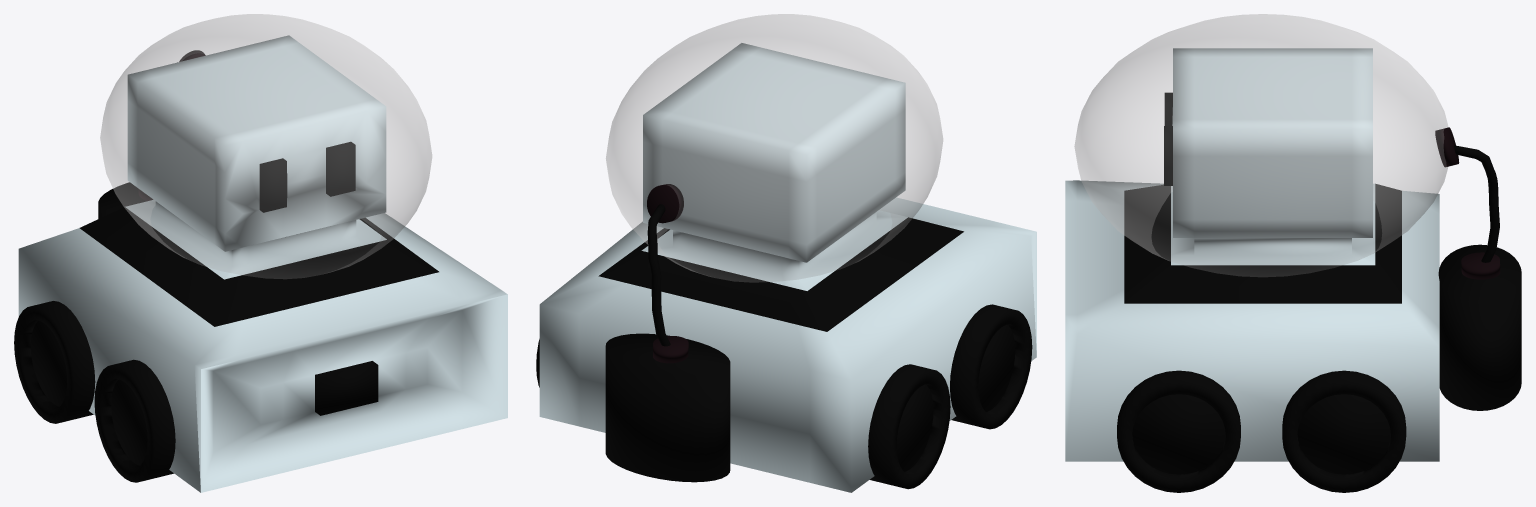
Rendered from robot-svemir.glb.
3 views of the same model, side by side, from view 1: azimuth 30°, elevation 25°; view 2: azimuth 150°, elevation 25°; view 3: azimuth 270°, elevation 25° (orthographic). The views are drawn at different scales.
Visible parts, largest first — view 1: Cube, Sphere, Cylinder.002, Cylinder.003, Cylinder.005; view 2: Cube, Sphere, Cylinder.005, Cylinder.002, Cylinder.003, Cylinder.006, Cylinder.004, Cylinder.007; view 3: Cube, Sphere, Cylinder.001, Cylinder, Cylinder.005, Cylinder.006, Cylinder.007, Cylinder.004.
Part boxes in pixels (x1,y1,x2,y2): Cube: (18, 35, 507, 492); Sphere: (100, 14, 431, 278); Cylinder.002: (14, 301, 95, 423); Cylinder.003: (94, 359, 175, 482); Cylinder.005: (98, 182, 147, 218); Cube: (539, 43, 1036, 492); Sphere: (606, 14, 942, 282); Cylinder.005: (605, 333, 730, 482); Cylinder.002: (868, 364, 950, 489); Cylinder.003: (950, 304, 1032, 429); Cylinder.006: (647, 204, 670, 346); Cylinder.004: (647, 184, 683, 223); Cylinder.007: (653, 336, 688, 363); Cube: (1065, 48, 1439, 461); Sphere: (1074, 14, 1447, 276); Cylinder.001: (1282, 370, 1406, 492); Cylinder: (1117, 370, 1240, 492); Cylinder.005: (1438, 244, 1521, 410); Cylinder.006: (1454, 145, 1499, 262); Cylinder.007: (1461, 252, 1500, 279); Cylinder.004: (1435, 127, 1459, 167).
Size of the model in its own units: 4.09 by 4.13 by 4.53.
